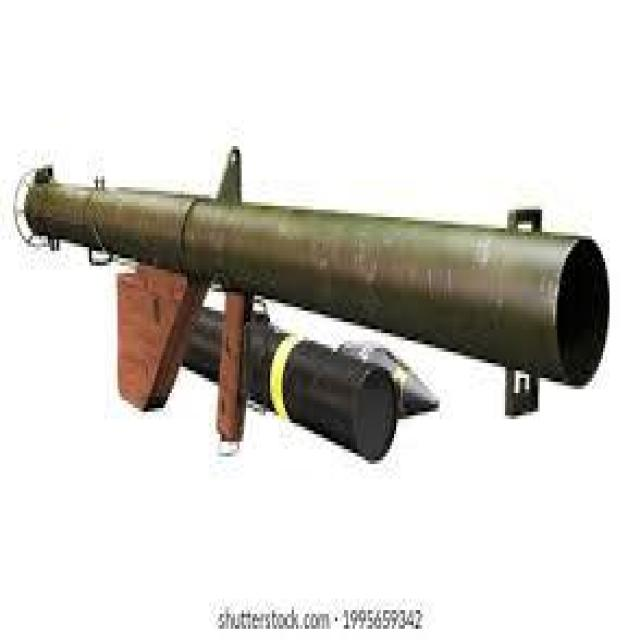bazooka: (14, 151, 619, 466)
